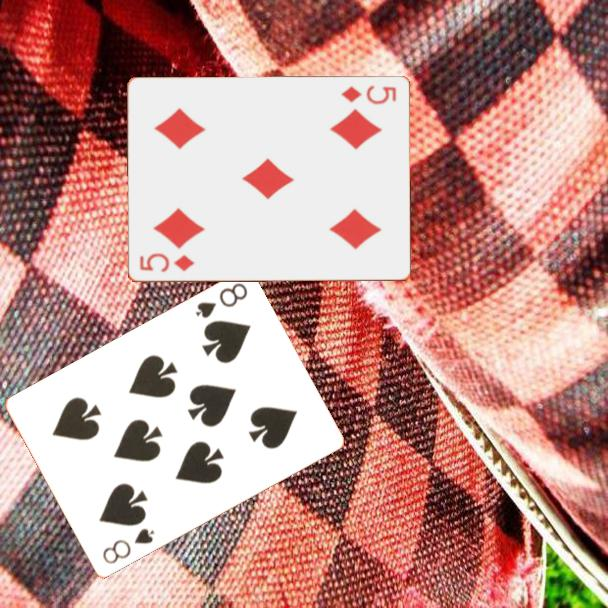d05: (337, 82, 399, 108), (136, 250, 197, 275)
s08: (191, 280, 250, 322), (99, 525, 157, 567)
